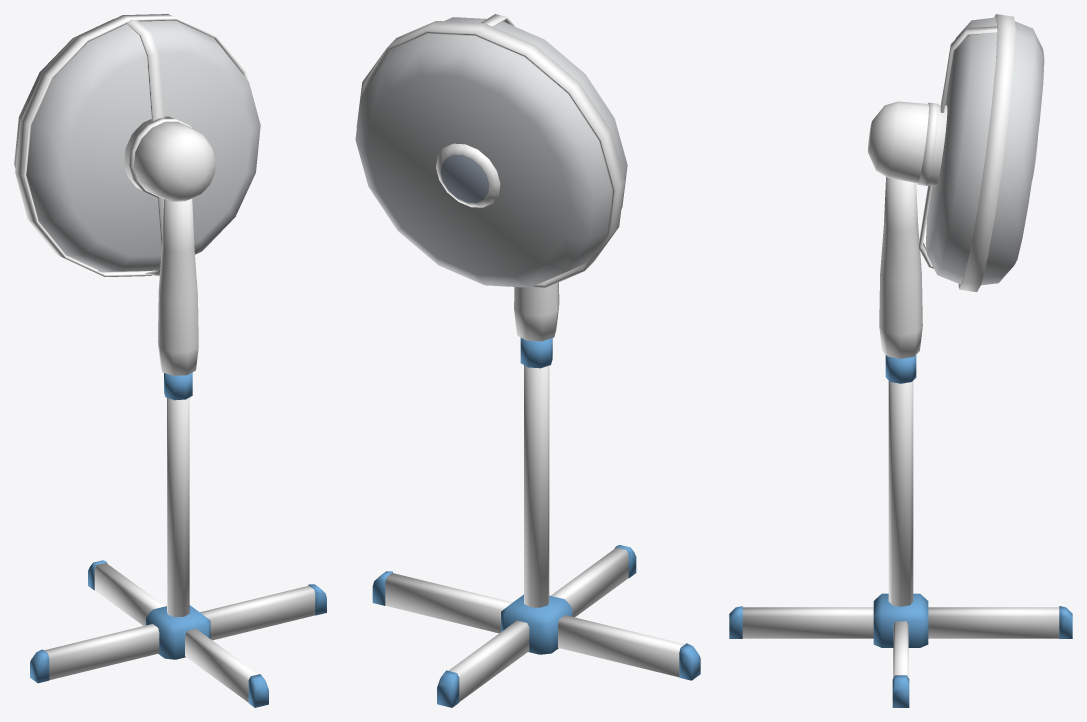
The model's file is fan2.glb.
3 views of the same model, side by side, from view 1: azimuth 30°, elevation 25°; view 2: azimuth 150°, elevation 25°; view 3: azimuth 270°, elevation 25° (orthographic). The views are drawn at different scales.
Visible parts, largest first — view 1: (item)fan[0], fan_alpha; view 2: fan_alpha, (item)fan[0]; view 3: (item)fan[0], fan_alpha.
Part boxes in pixels (x1,y1,x2,y2): (item)fan[0]: [15, 14, 326, 707]; fan_alpha: [14, 19, 260, 271]; fan_alpha: [355, 17, 627, 287]; (item)fan[0]: [356, 14, 700, 707]; (item)fan[0]: [729, 14, 1072, 707]; fan_alpha: [925, 17, 1044, 285].
Bounding box in the file's own units: 3.12 × 6.14 × 3.12.
1 material, 1 textured.
